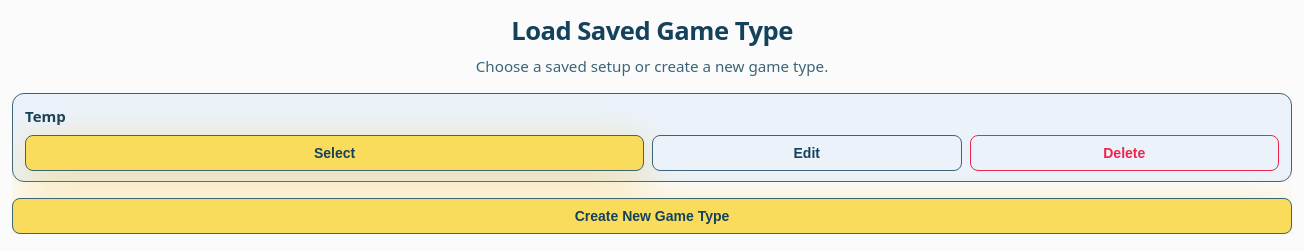
Test: LoadSavedGameTypes › removes an item when Delete is clicked
What coordinates should you click on to do the following:
click the button "Delete"
I would click on:
 (1124, 153)
Its box is 970,135 -> 1279,171.
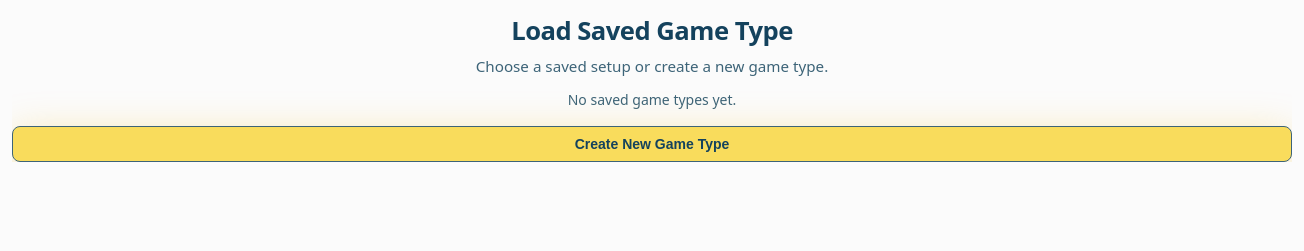
Now the text "No saved game types yet." is shown, box 568,90 -> 736,109
